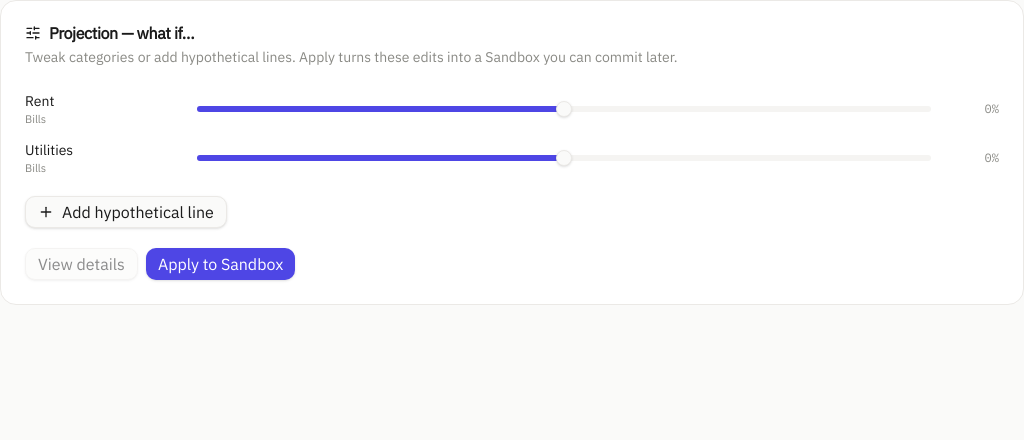
Test: ProjectionPanel › Add hypothetical line button reveals form; submit pushes to list
Check: the text "Rent" is shown, box [25, 92, 54, 110]
Step 1. Click the button "Add hypothetical line" → (126, 212), box [25, 196, 227, 228]
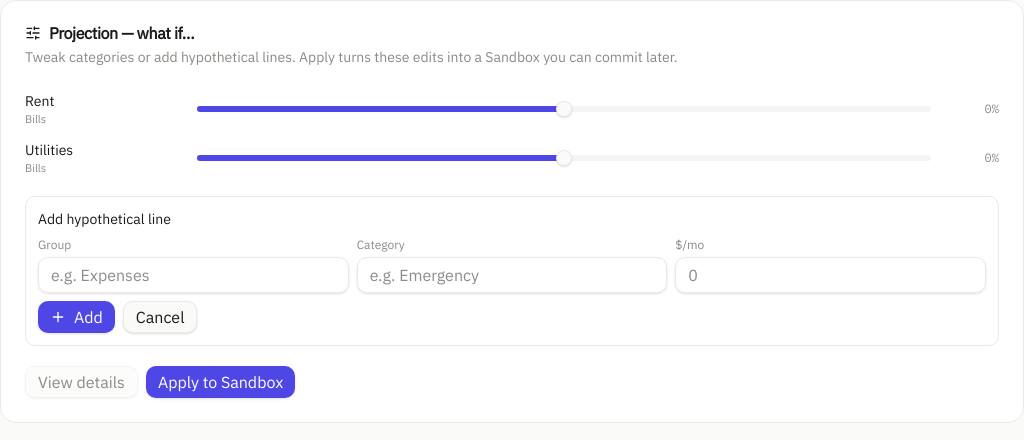
Check: the field labelled "Group" is shown
Check: the field labelled "Category" is shown, box [357, 257, 667, 293]
Step 2. Type "Expenses" into the field labelled "Group" → (193, 275), box [38, 257, 349, 293]
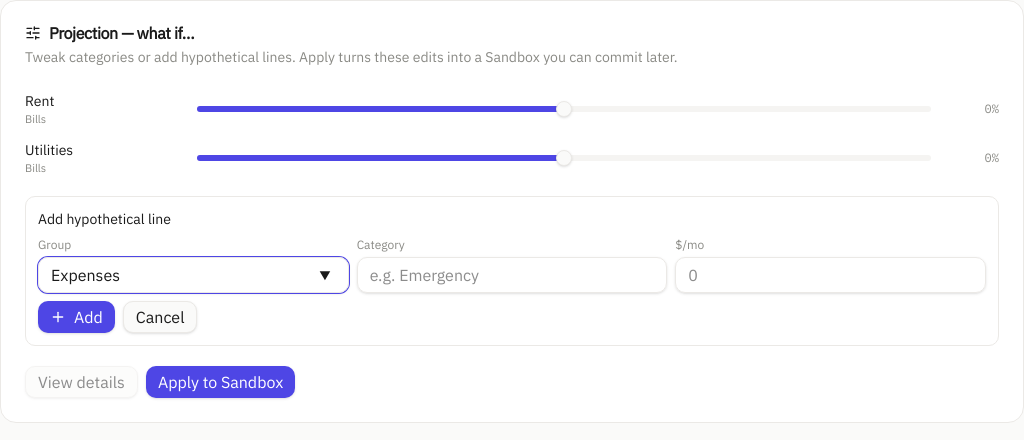
Step 3. Type "Emergency" into the field labelled "Category" → (512, 275), box [357, 257, 667, 293]
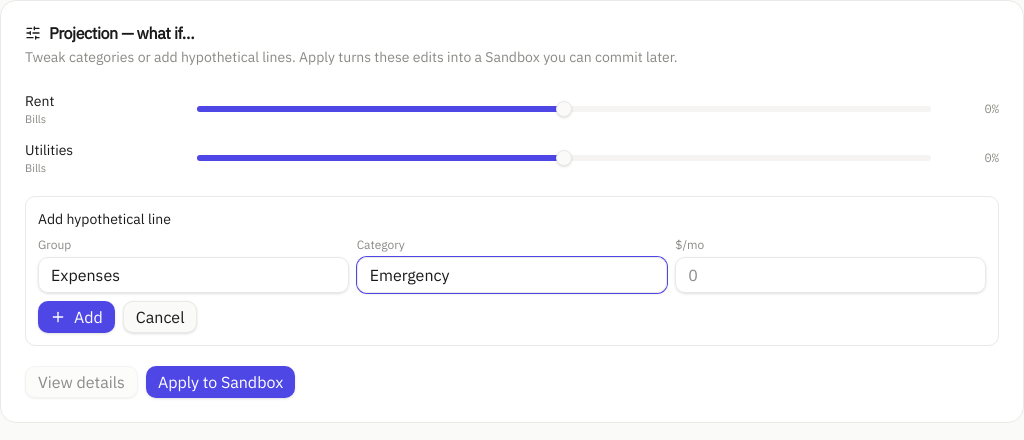
Step 4. Type "500" into the number field labelled "$/mo" → (831, 275), box [675, 257, 986, 293]
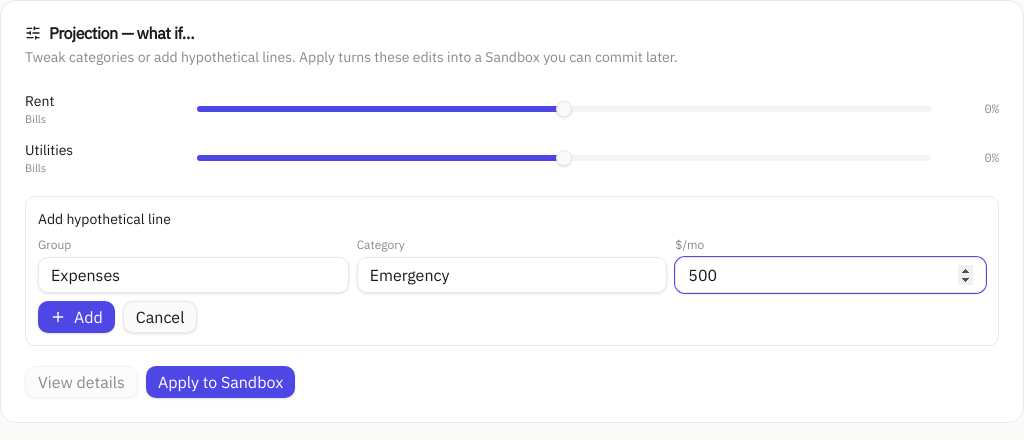
Step 5. Click the button "Add" → (76, 317), box [38, 301, 115, 333]
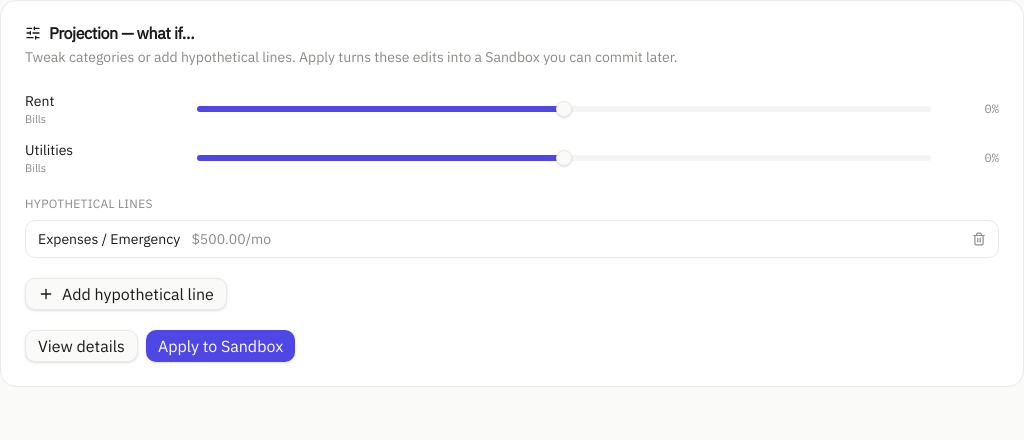
Check: the text "Expenses / Emergency" is shown, box [38, 230, 180, 248]
